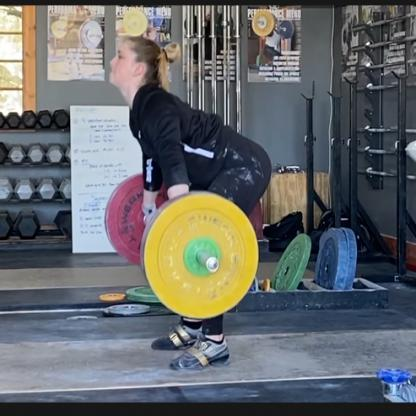Barbell: (138, 188, 262, 326)
